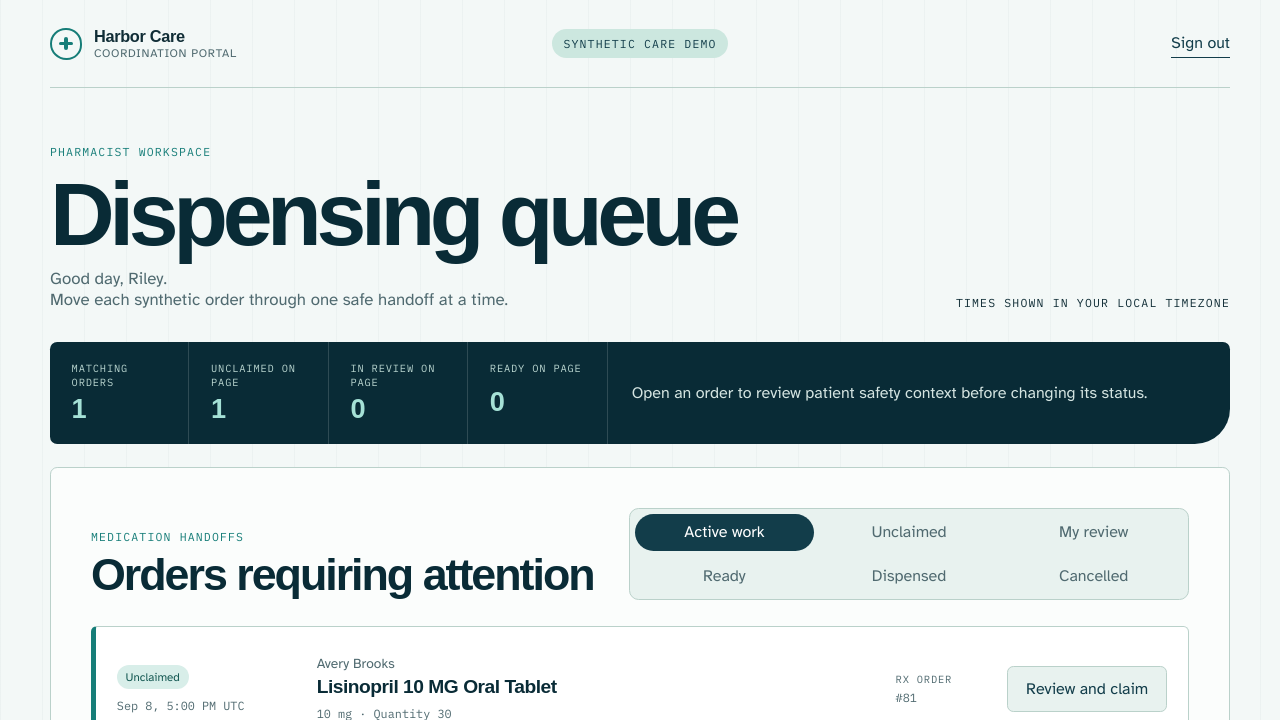
Test: App › routes a pharmacist to the dispensing queue and filters work by status
The width and height of the screenshot is (1280, 720).
Check: the heading "Dispensing queue" is shown, box [50,164,736,264]
Check: the heading "Lisinopril 10 MG Oral Tablet" is shown, box [317,676,557,696]
Click the button "Ready" at (724, 576), box [635,557,814,594]
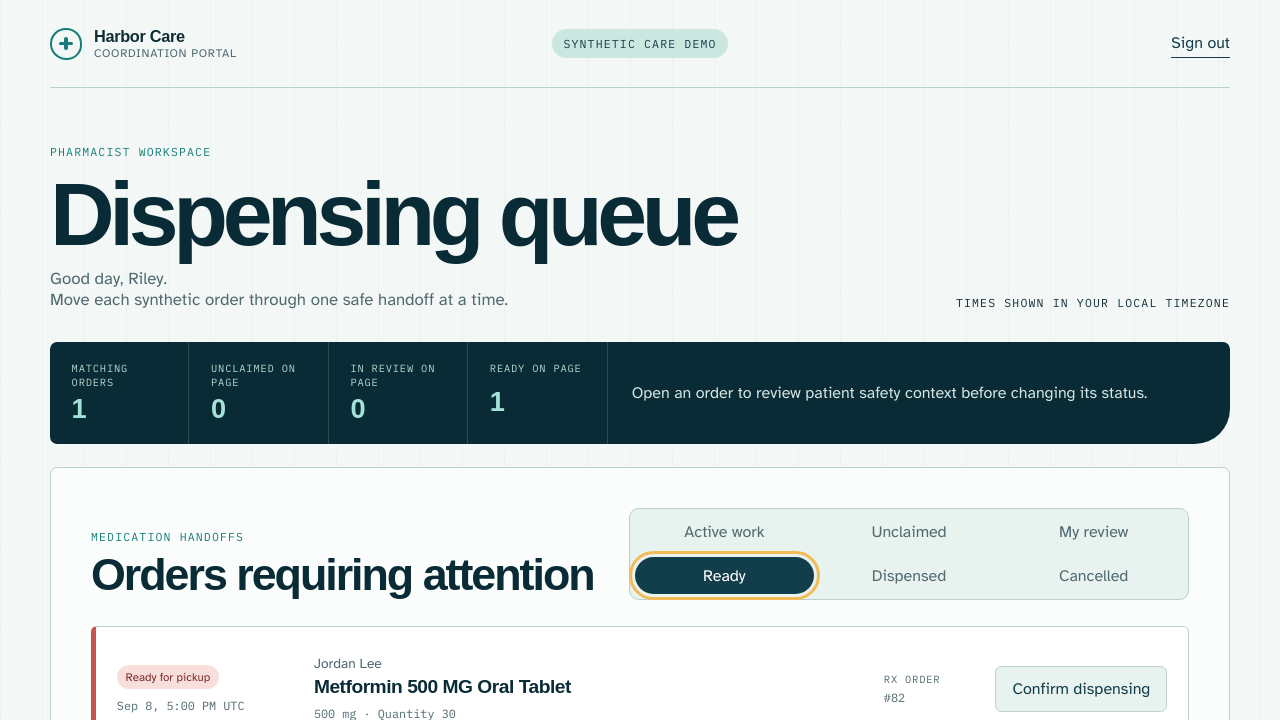
Check: the heading "Metformin 500 MG Oral Tablet" is shown, box [314,676,571,696]
